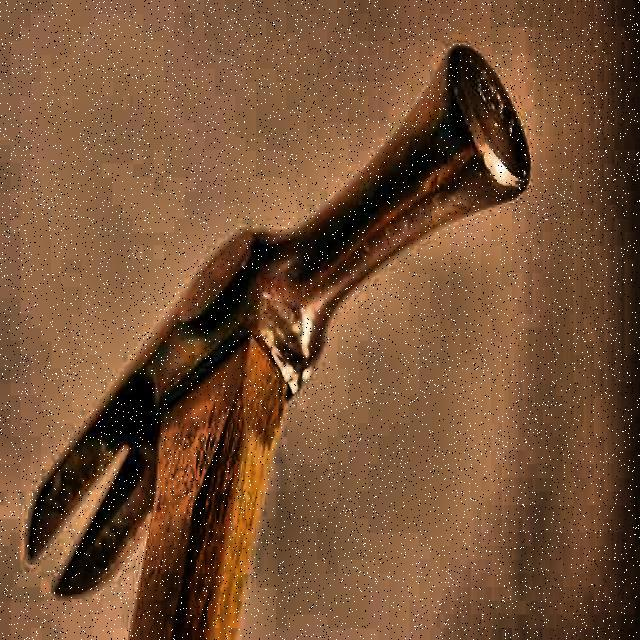hammer: (23, 41, 535, 639)
